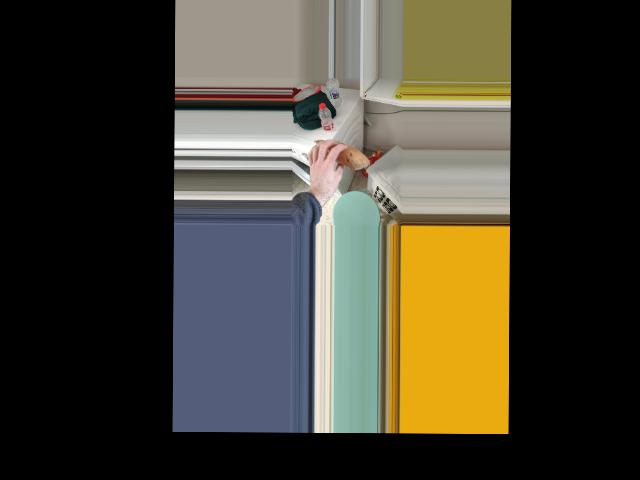sweet_potato: (312, 140, 365, 165)
